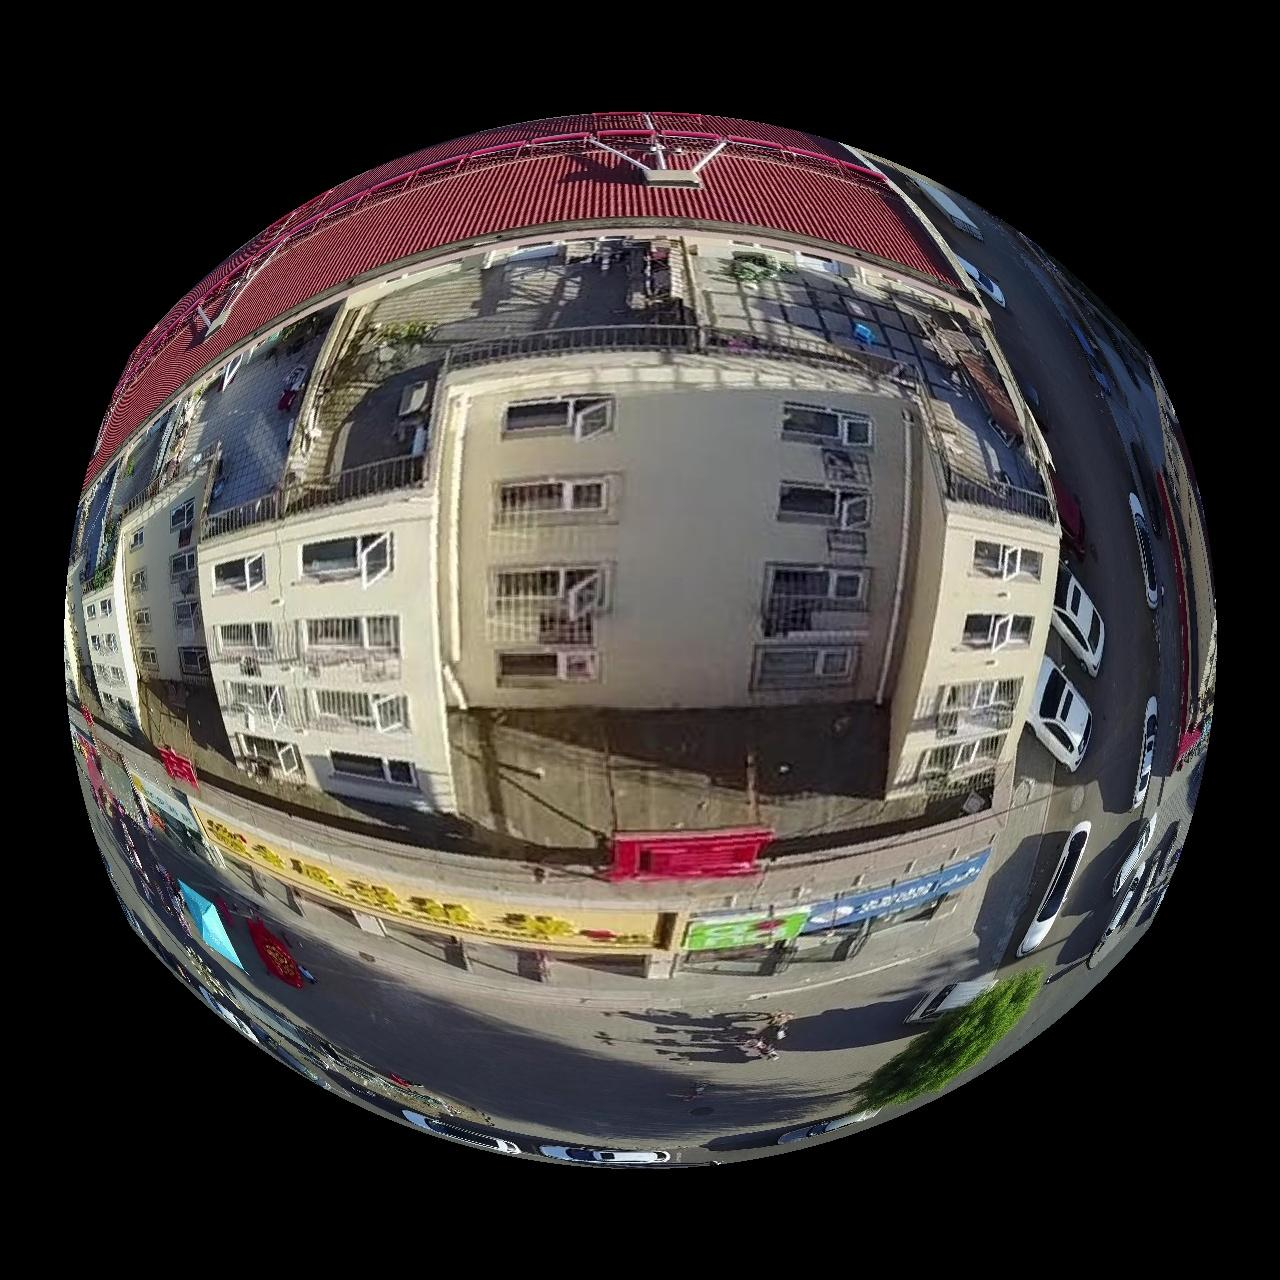building: (66, 114, 1062, 822)
cars: (1017, 823, 1092, 959), (1029, 658, 1094, 772), (1054, 561, 1107, 676), (402, 1111, 520, 1157), (906, 974, 999, 1024), (1131, 492, 1165, 610), (1116, 818, 1158, 899), (1135, 697, 1160, 809), (539, 1148, 670, 1167), (960, 256, 1008, 306)
trees: (856, 969, 1046, 1112)
